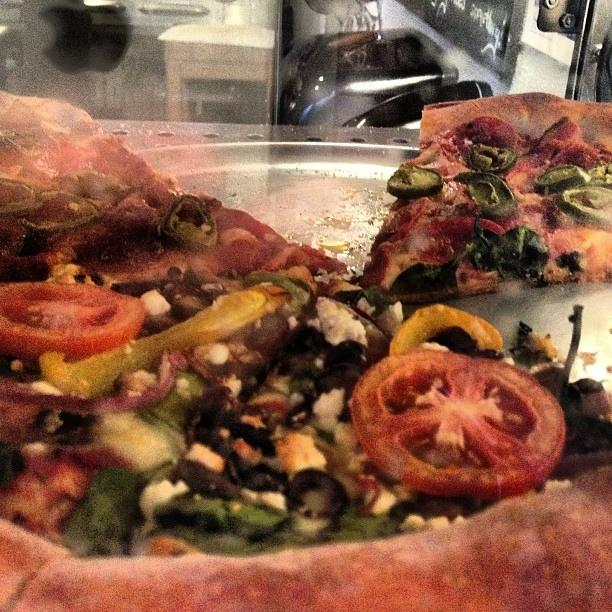bell pepper: (39, 284, 293, 402), (390, 304, 502, 358)
tomato: (351, 350, 566, 500), (1, 281, 146, 363), (538, 228, 594, 264), (438, 216, 506, 236)
